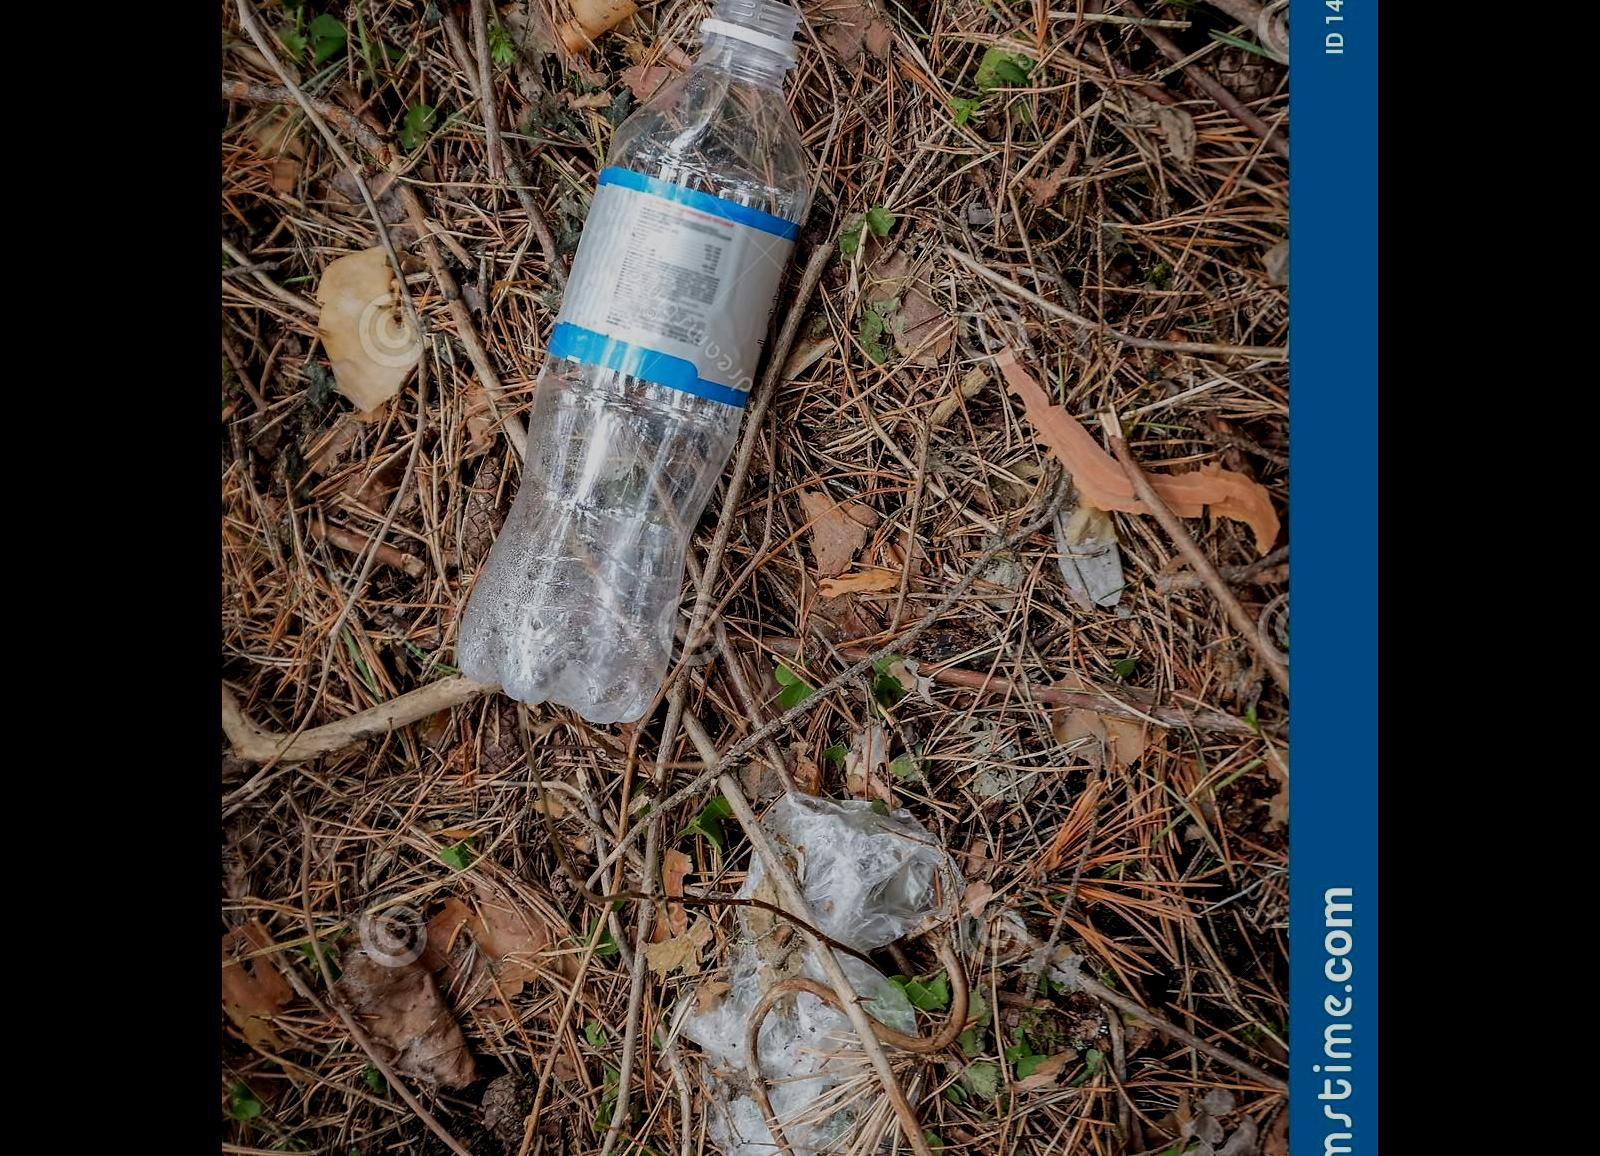bottle: (432, 0, 847, 721)
